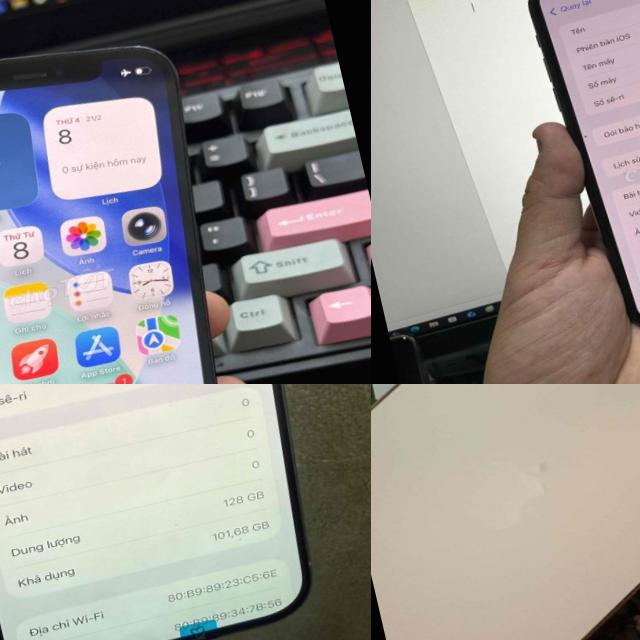gen_11: (510, 0, 640, 346)
gen_12_13: (0, 12, 248, 384), (371, 384, 640, 640)
gen_15: (0, 384, 340, 640)
